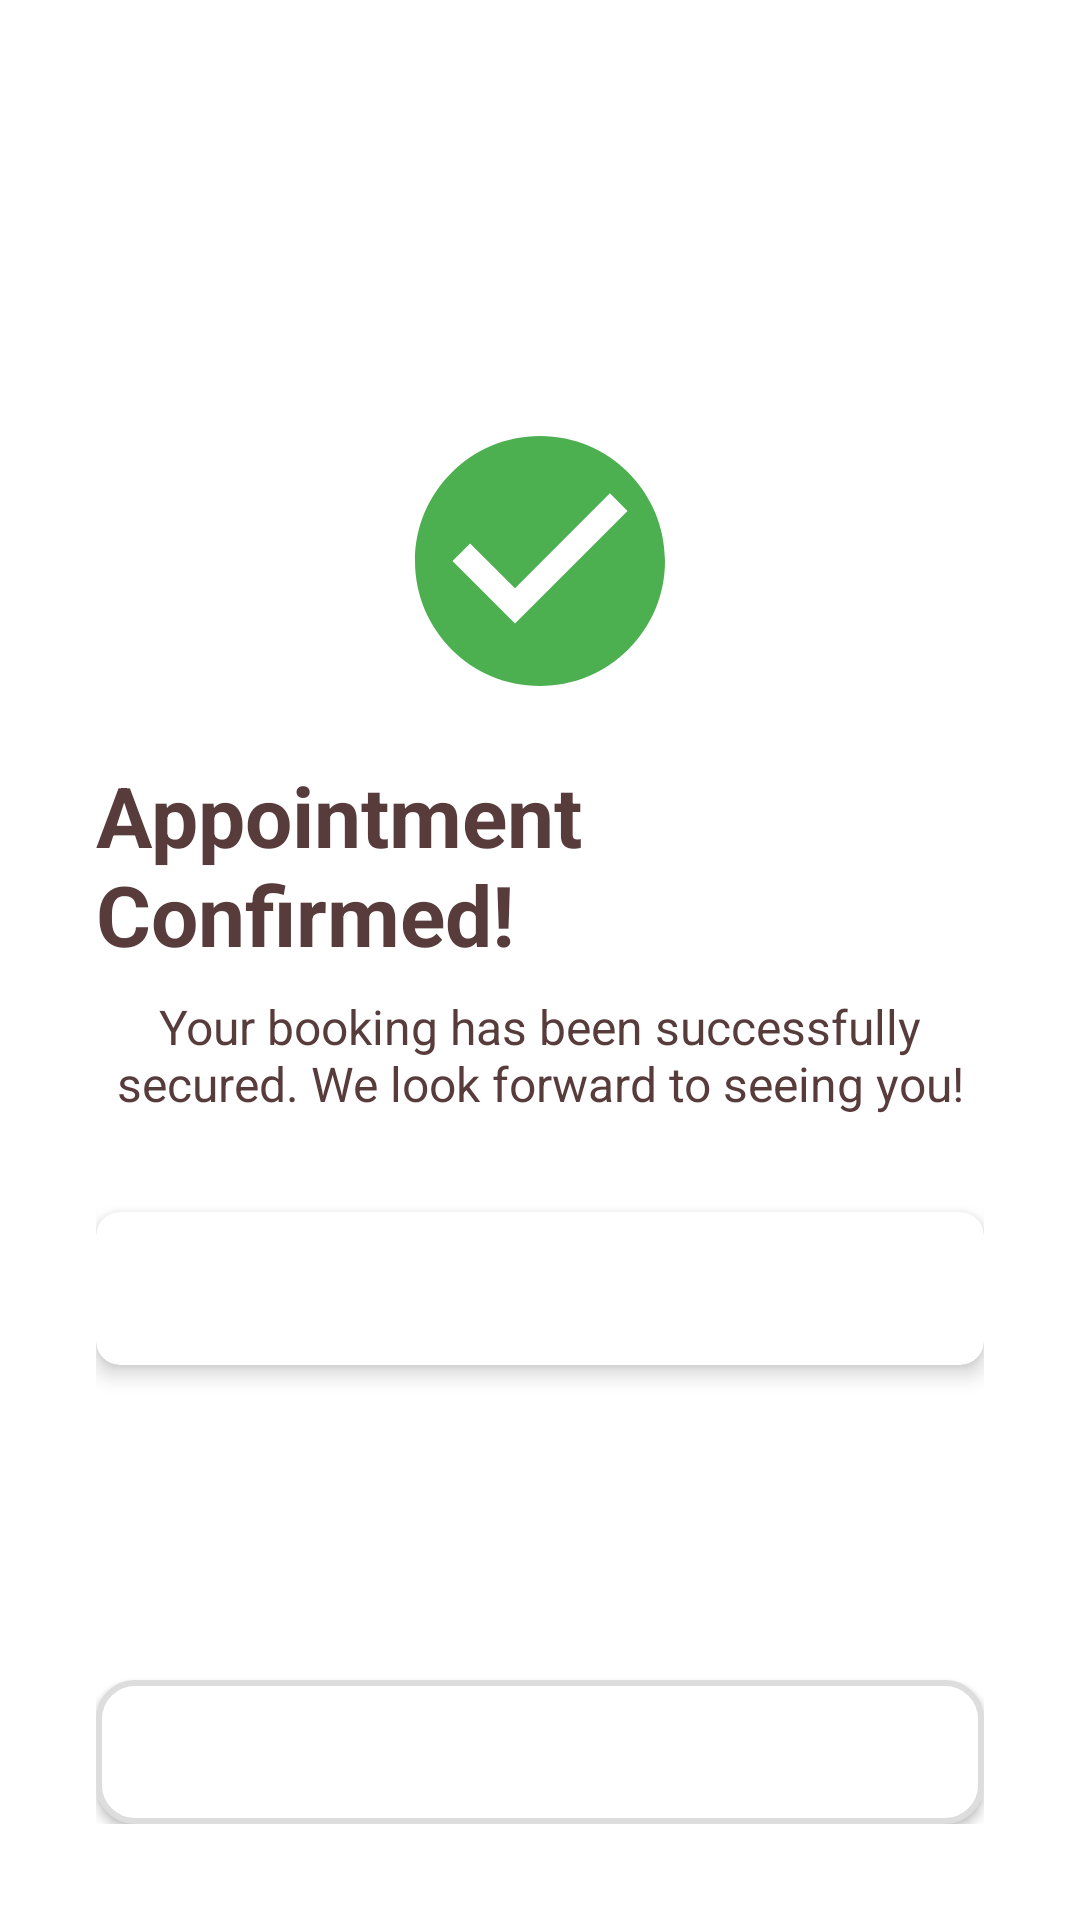

Point at icon controls on the screen. Image size 1080w x 1920h, points as [x,y].
Success Checkmark: [540,561]
